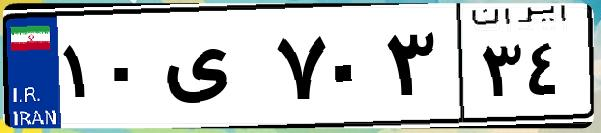0: (330, 28, 385, 110), (110, 28, 158, 98)
1: (57, 26, 110, 100)
3: (385, 28, 445, 110), (475, 38, 525, 113)
4: (525, 38, 570, 115)
7: (270, 28, 330, 110)
ی: (158, 20, 270, 120)
